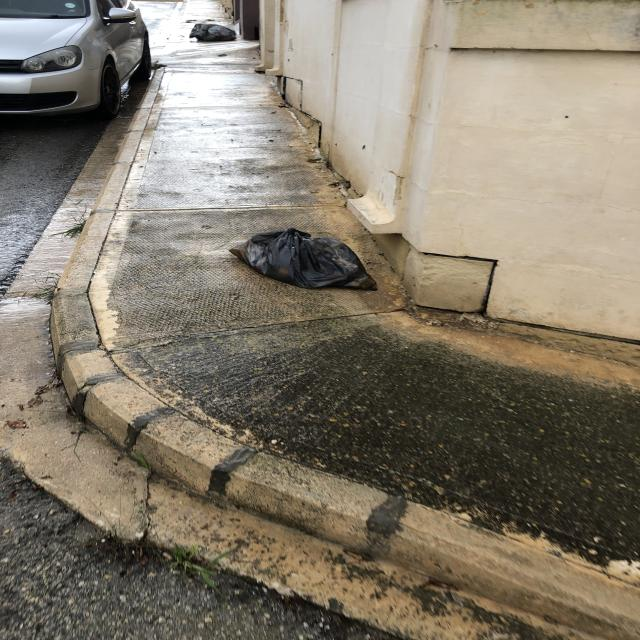Mixed Waste -Black Bag-: (231, 230, 380, 291)
